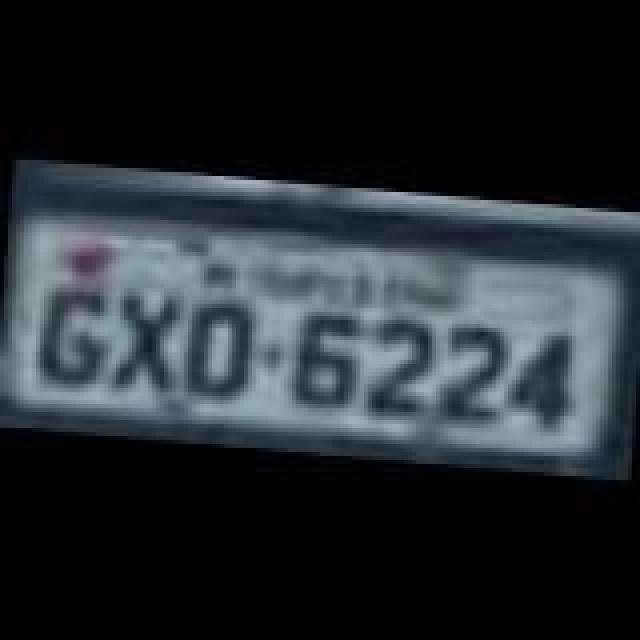2: (364, 310, 436, 418), (436, 314, 508, 422)
4: (506, 322, 582, 430)
6: (290, 310, 366, 410)
G: (34, 276, 110, 388)
O: (180, 294, 252, 402)
X: (104, 286, 184, 394)
